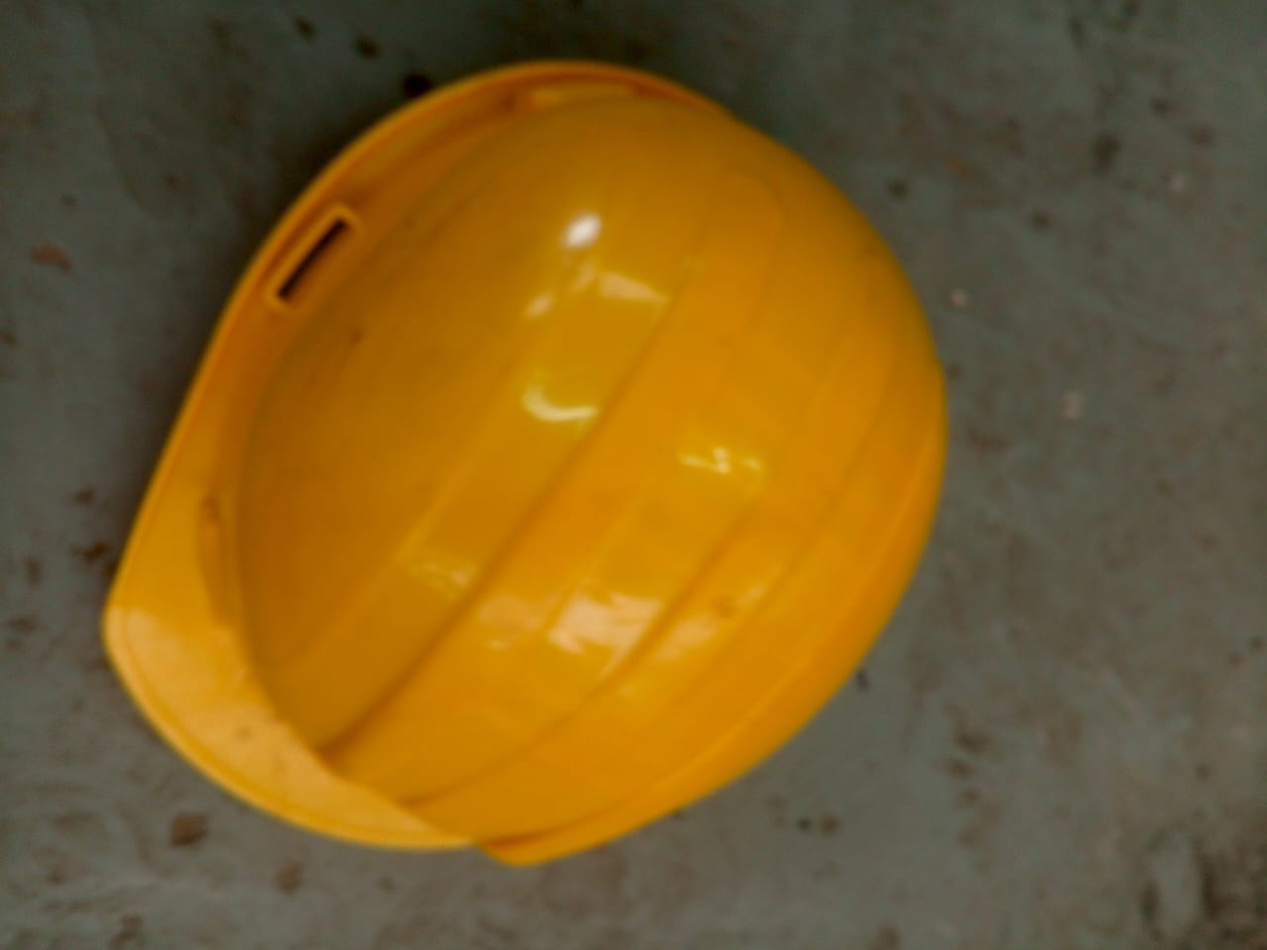Plastico: (99, 61, 946, 867)
